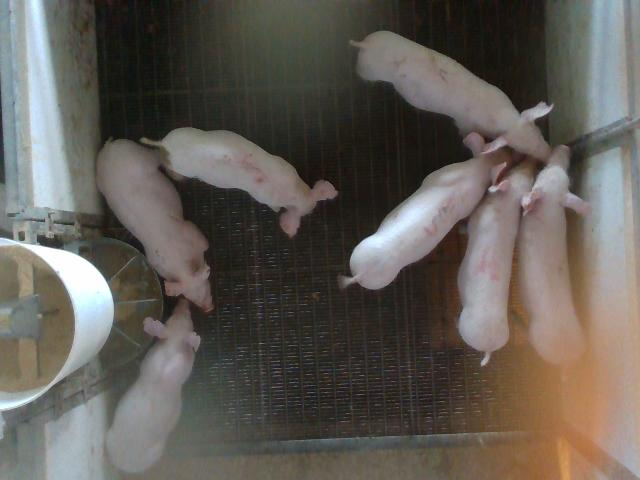pig-3: (339, 132, 512, 289)
pig-4: (458, 158, 536, 366)
pig-5: (140, 128, 338, 236)
